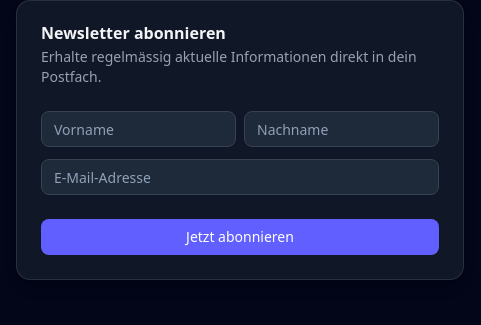
Test: NewsletterForm Component Test › sollte bei einer erfolgreichen API-Antwort eine Erfolgsmeldung anzeigen
In the field with placeholder "Vorname": (138, 129) left=41, top=111, right=236, bottom=147, type "Maria"
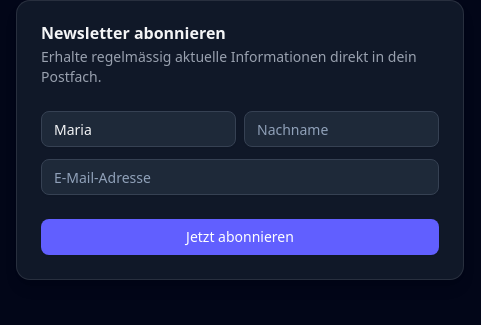
In the field with placeholder "Nachname": (342, 129) left=244, top=111, right=439, bottom=147, type "Muster"
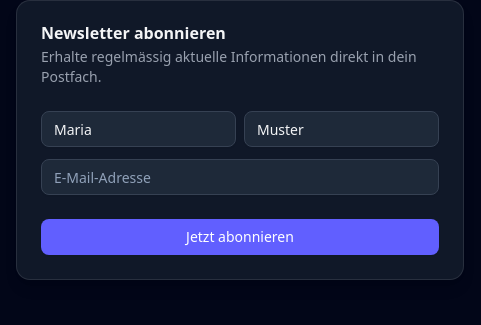
In the field with placeholder "E-Mail-Adresse": (240, 177) left=41, top=159, right=439, bottom=195, type "maria@muster.com"
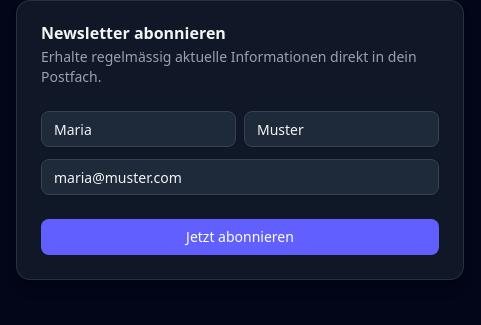
Click the button "Jetzt abonnieren": (240, 237) left=41, top=219, right=439, bottom=255
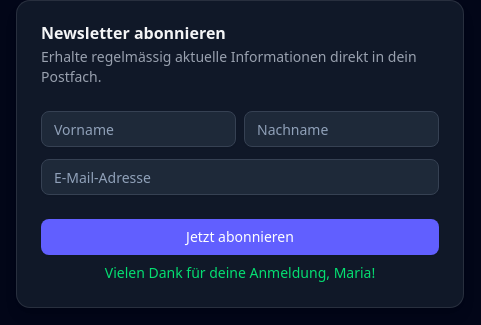
Check: the text "Vielen Dank für deine Anmeldung, Maria!" is shown, box left=105, top=263, right=375, bottom=283
